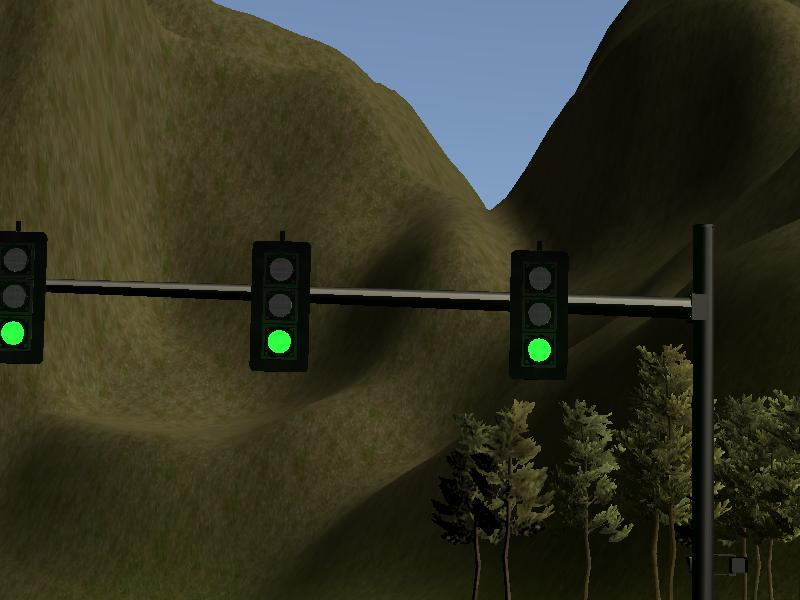Green: (251, 242, 308, 371), (513, 253, 566, 367), (1, 233, 44, 360)
